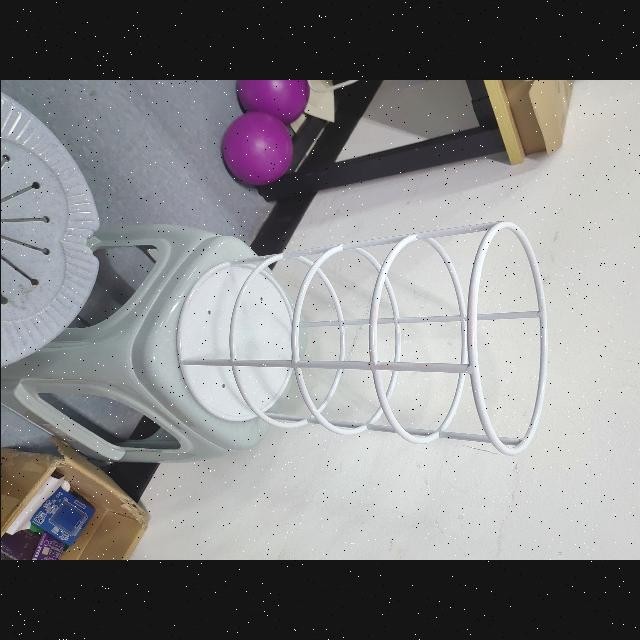S: (169, 218, 549, 457)
